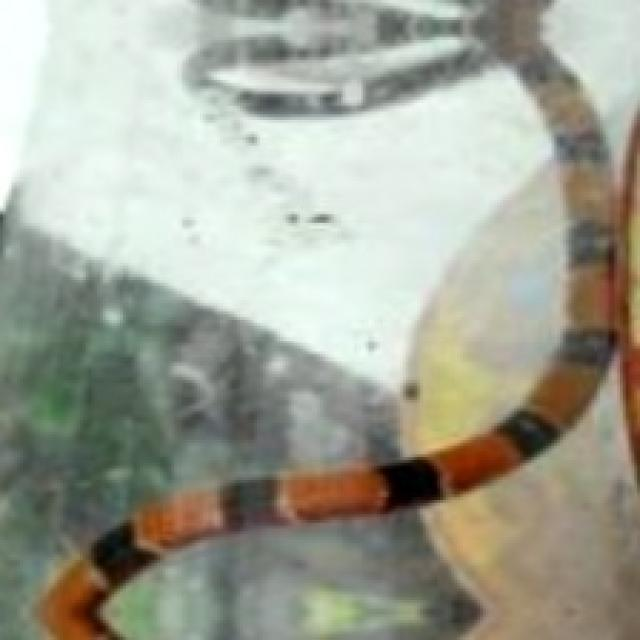barredcoral snake: (42, 0, 616, 640)
